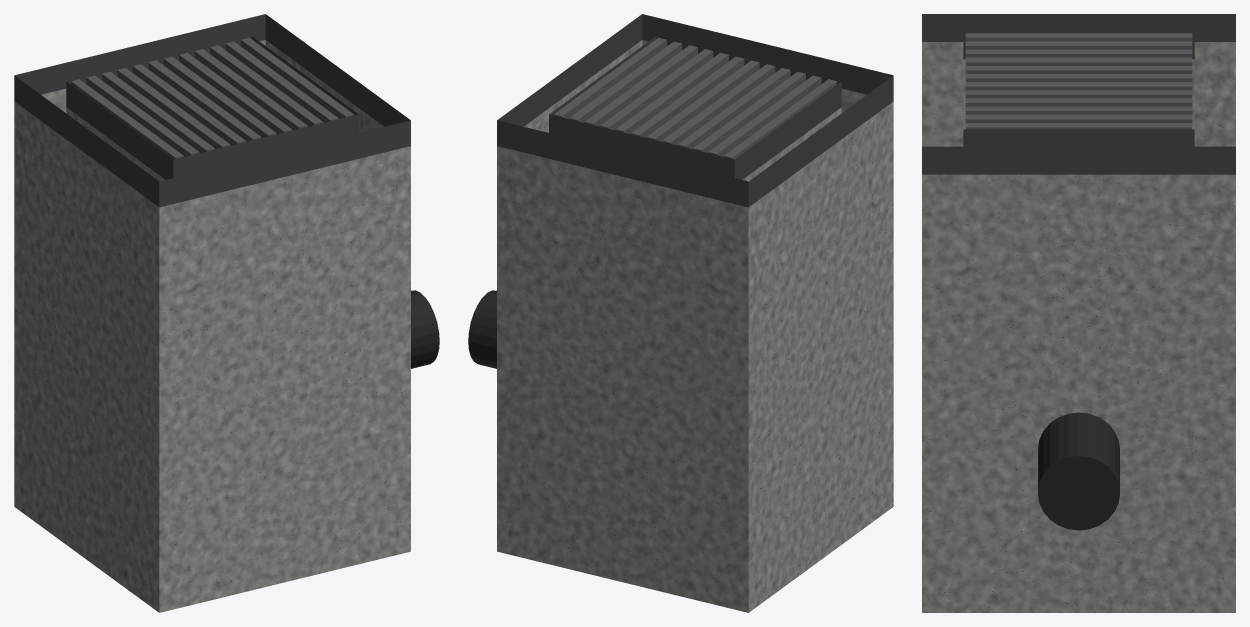
3 views of the same model, side by side, from view 1: azimuth 30°, elevation 25°; view 2: azimuth 150°, elevation 25°; view 3: azimuth 270°, elevation 25° (orthographic). The views are drawn at different scales.
Parts seen in each view (by area): view 1: coverLevelOffset=0;coverMaterial=grate_steel;coverShape=squa (×4); view 2: coverLevelOffset=0;coverMaterial=grate_steel;coverShape=squa (×4); view 3: coverLevelOffset=0;coverMaterial=grate_steel;coverShape=squa (×4).
Boxes of the visible parts, x1,y1,x2,y2 form: coverLevelOffset=0;coverMaterial=grate_steel;coverShape=squa (×4): (14, 14, 439, 612); coverLevelOffset=0;coverMaterial=grate_steel;coverShape=squa (×4): (468, 14, 893, 612); coverLevelOffset=0;coverMaterial=grate_steel;coverShape=squa (×4): (922, 14, 1235, 612).
Bounding box in the file's own units: 0.81 × 0.61 × 1.
4 materials, 1 textured.
